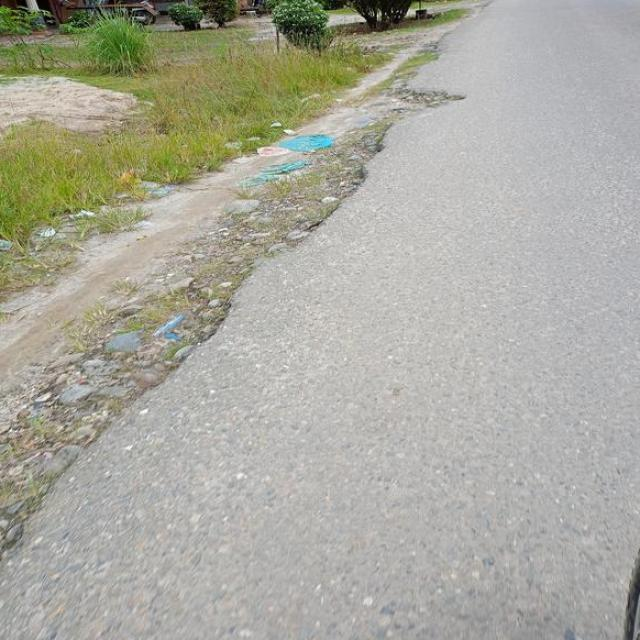Pinggir: (0, 51, 477, 566)
